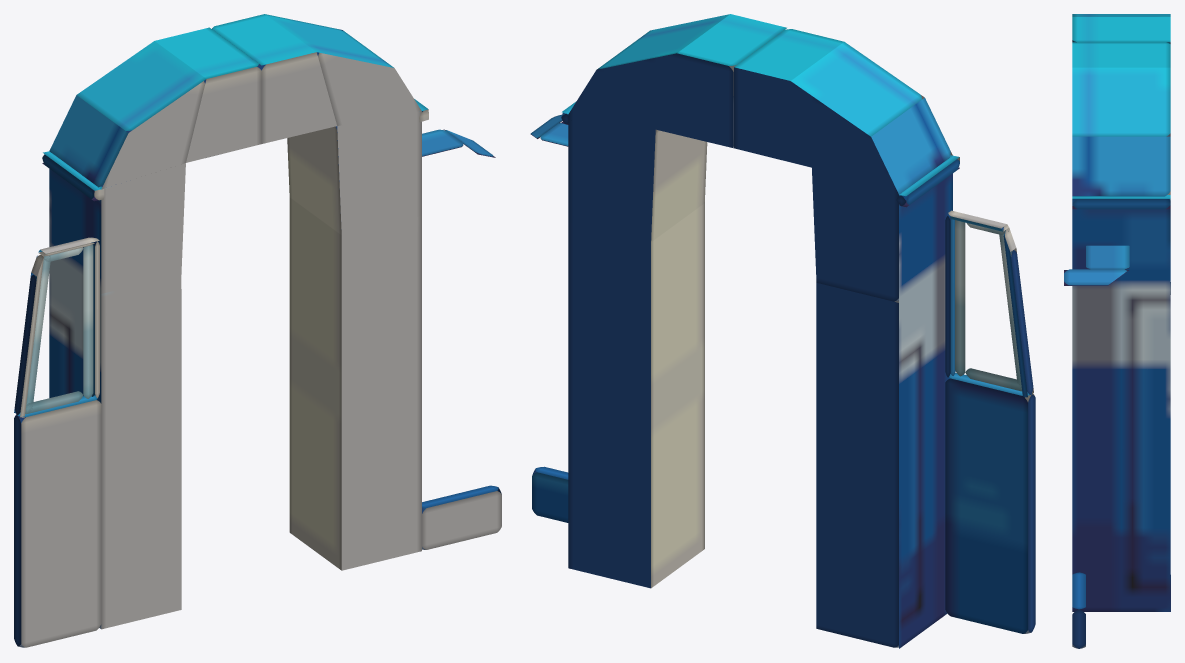
The model's file is df5_head_end_face.obj.
3 renders of one model, left to right at view 1: azimuth 30°, elevation 25°; view 2: azimuth 150°, elevation 25°; view 3: azimuth 270°, elevation 25°, orthographic. The views are drawn at different scales.
Visible parts, largest first — view 1: cuboid_selection_selection_selection_selection; view 2: cuboid_selection_selection_selection_selection; view 3: cuboid_selection_selection_selection_selection.
Boxes of the visible parts, x1,y1,x2,y2 form: cuboid_selection_selection_selection_selection: [14, 14, 501, 647]; cuboid_selection_selection_selection_selection: [530, 14, 1035, 648]; cuboid_selection_selection_selection_selection: [1064, 14, 1170, 648].
Bounding box in the file's own units: 3 × 3.13 × 0.6101.
